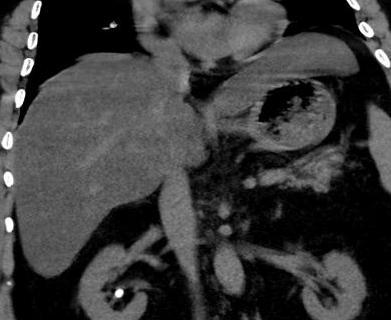Tas_Var: (110, 286, 128, 302)
